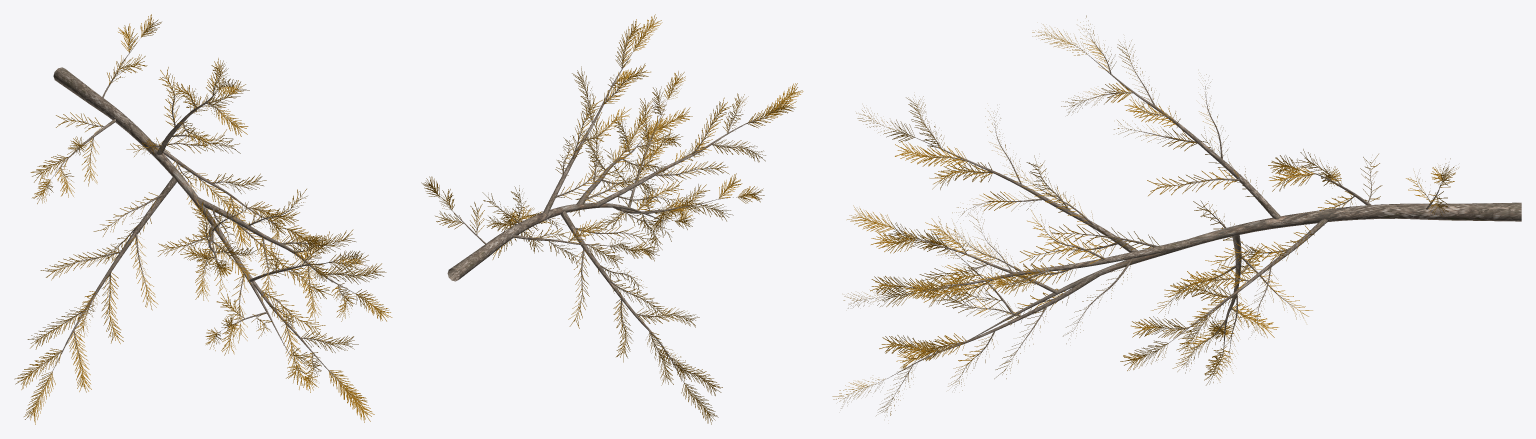
Rendered from tree_branch.glb.
The picture shows the model from 3 angles, left to right: view 1: azimuth 30°, elevation 25°; view 2: azimuth 150°, elevation 25°; view 3: azimuth 270°, elevation 25°; orthographic projection. The views are drawn at different scales.
Visible parts, largest first — view 1: leaves, tree; view 2: leaves, tree; view 3: leaves, tree.
Boxes of the visible parts, x1,y1,x2,y2 form: leaves: (14, 14, 392, 424); tree: (32, 43, 375, 397); leaves: (421, 14, 803, 424); tree: (440, 39, 776, 401); leaves: (832, 15, 1458, 415); tree: (863, 29, 1521, 401).
Bounding box in the file's own units: 3.04 × 3.92 × 5.42.
2 materials, 1 textured.
